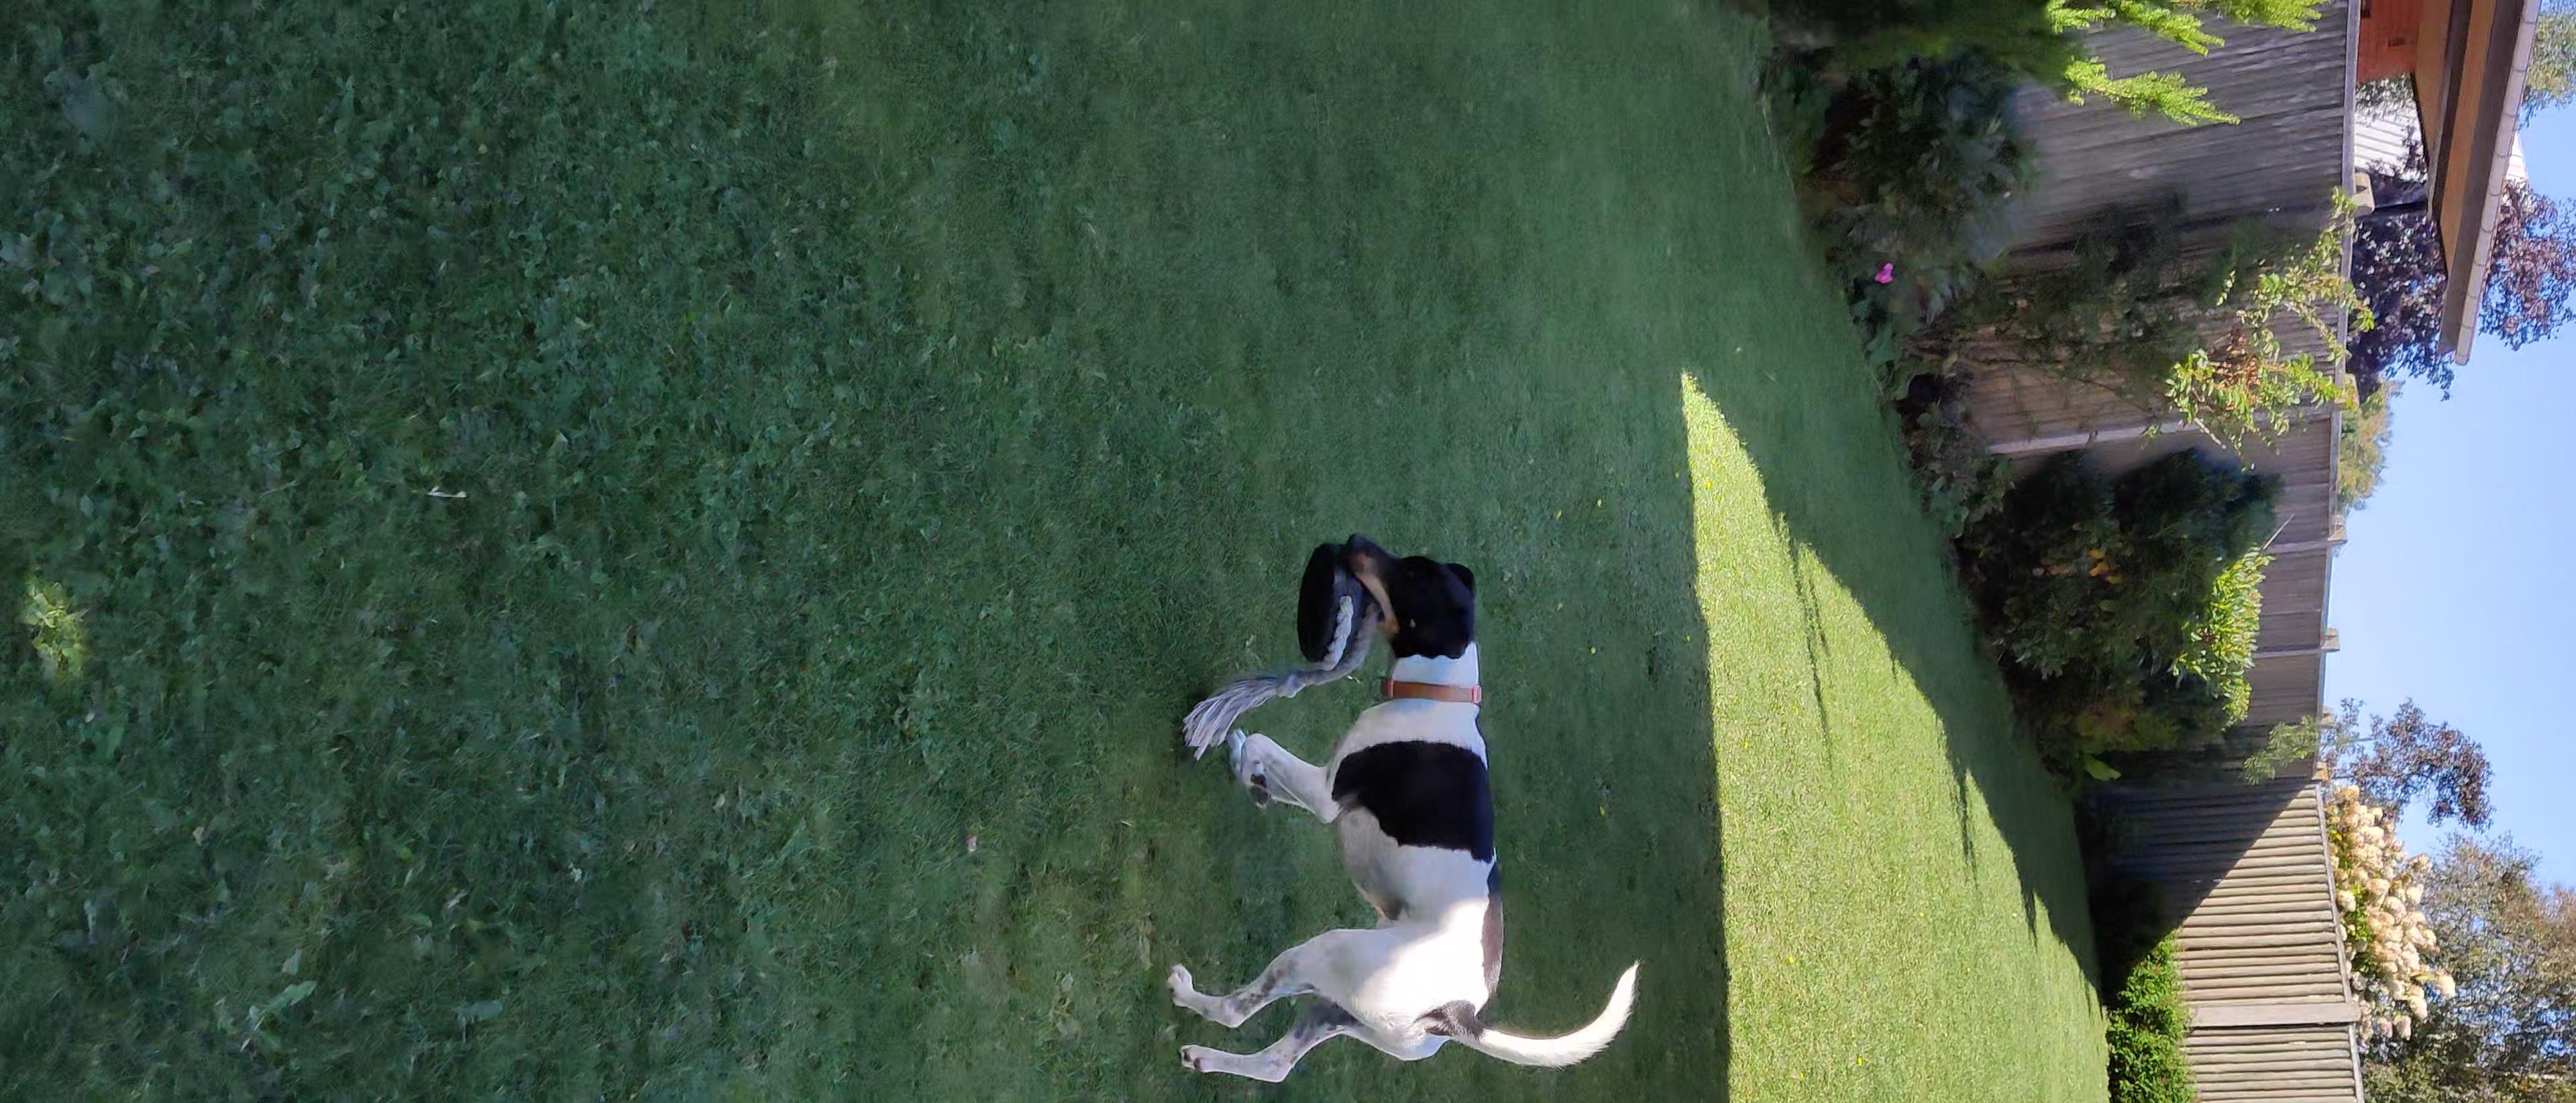Dog: (1163, 524, 1649, 1085)
